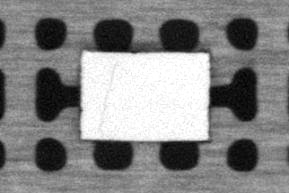DIE_CRACK: (98, 64, 116, 128)
